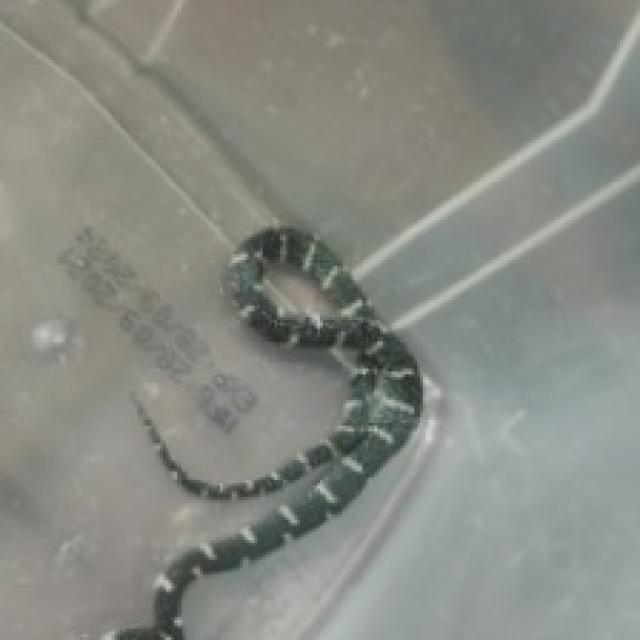gunthers philippine shrub snake: (103, 226, 420, 637), (111, 226, 420, 637)
